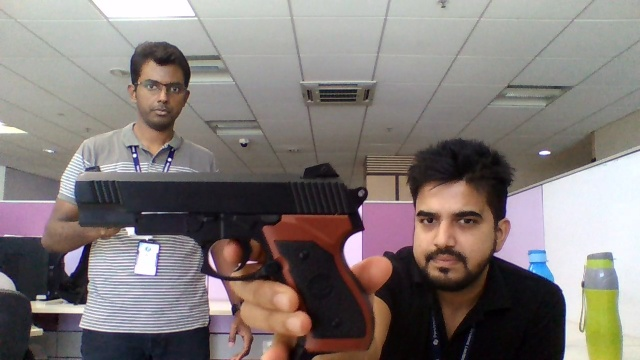gun: (76, 164, 362, 271)
